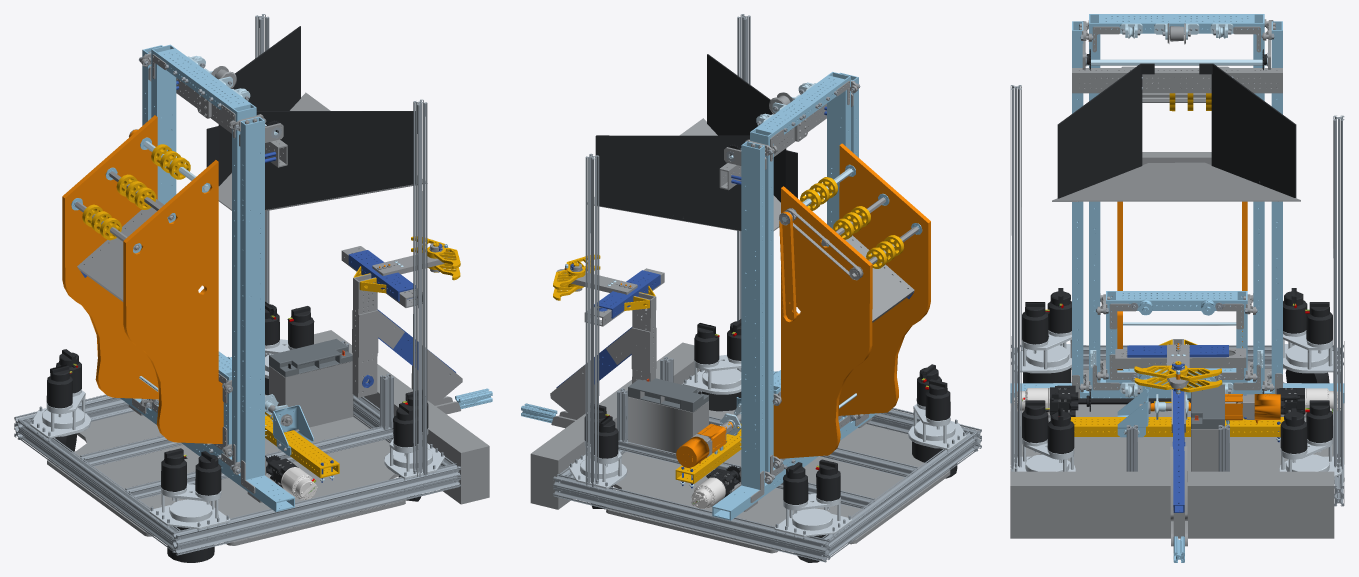
The model's file is robot.glb.
3 renders of one model, left to right at view 1: azimuth 30°, elevation 25°; view 2: azimuth 150°, elevation 25°; view 3: azimuth 270°, elevation 25°, orthographic. The views are drawn at different scales.
Parts seen in each view (by area): view 1: longer belt, rough bumper, Battery, Part 1, inbetween, Tube 2"x1"x36", Simplified MK4, 18t 9mm Wide 1_2_ Hex Bore Double Flange 5mm HTD Aluminum Pu, angles bracket, 2- OD 30A Thrifty Squish Wheel (TTB-0032) (8), bearing, .5_ Hex ID 1.125_ OD Flanged Bearing (217-2734)-1 (+2 smaller); view 2: longer belt, rough bumper, Battery, Part 1, inbetween, Tube 2"x1"x36", Simplified MK4, 18t 9mm Wide 1_2_ Hex Bore Double Flange 5mm HTD Aluminum Pu, angles bracket, 2- OD 30A Thrifty Squish Wheel (TTB-0032) (8), bearing, Socket button head cap screw #10-32 x 0.75 (+2 smaller); view 3: rough bumper, Battery, Part 1, inbetween, Tube 2"x1"x36", Simplified MK4, angles bracket, .5_ Hex ID 1.125_ OD Flanged Bearing (217-2734)-1, 18t 9mm Wide 1_2_ Hex Bore Double Flange 5mm HTD Aluminum Pu, bearing, Constant Force Spring Retainer ELEV-SPRING-004, 4mm Dyneema Cable Pulley ELEV-PULLEY002 (+5 smaller).
Part boxes in pixels (<box>): longer belt: <box>62,115,223,443</box>; rough bumper: <box>47,51,489,545</box>; Battery: <box>46,26,428,562</box>; Part 1: <box>14,14,460,555</box>; inbetween: <box>120,45,492,511</box>; Tube 2"x1"x36": <box>151,44,256,468</box>; Simplified MK4: <box>30,315,444,529</box>; 18t 9mm Wide 1_2_ Hex Bore Double Flange 5mm HTD Aluminum Pu: <box>74,129,232,457</box>; angles bracket: <box>265,236,460,478</box>; 2- OD 30A Thrifty Squish Wheel (TTB-0032) (8): <box>82,144,190,240</box>; bearing: <box>176,80,455,482</box>; .5_ Hex ID 1.125_ OD Flanged Bearing (217-2734)-1: <box>71,137,231,457</box>; longer belt: <box>773,143,930,458</box>; rough bumper: <box>530,79,950,553</box>; Battery: <box>584,54,957,562</box>; Part 1: <box>553,14,981,562</box>; inbetween: <box>521,72,876,520</box>; Tube 2"x1"x36": <box>750,72,850,482</box>; Simplified MK4: <box>568,332,966,536</box>; 18t 9mm Wide 1_2_ Hex Bore Double Flange 5mm HTD Aluminum Pu: <box>772,197,918,468</box>; angles bracket: <box>553,254,741,483</box>; 2- OD 30A Thrifty Squish Wheel (TTB-0032) (8): <box>800,177,903,268</box>; bearing: <box>556,106,826,488</box>; Socket button head cap screw #10-32 x 0.75: <box>564,268,733,467</box>; rough bumper: <box>1010,19,1344,546</box>; Battery: <box>1022,49,1332,453</box>; Part 1: <box>1010,20,1344,506</box>; inbetween: <box>1010,21,1344,562</box>; Tube 2"x1"x36": <box>1089,14,1264,392</box>; Simplified MK4: <box>1013,303,1341,477</box>; angles bracket: <box>1070,339,1284,436</box>; .5_ Hex ID 1.125_ OD Flanged Bearing (217-2734)-1: <box>1106,291,1247,387</box>; 18t 9mm Wide 1_2_ Hex Bore Double Flange 5mm HTD Aluminum Pu: <box>1097,93,1255,381</box>; bearing: <box>1127,345,1280,512</box>; Constant Force Spring Retainer ELEV-SPRING-004: <box>1080,23,1272,391</box>; 4mm Dyneema Cable Pulley ELEV-PULLEY002: <box>1090,23,1263,397</box>.
Size of the model in its own units: 1.04 by 1.05 by 0.7493.
